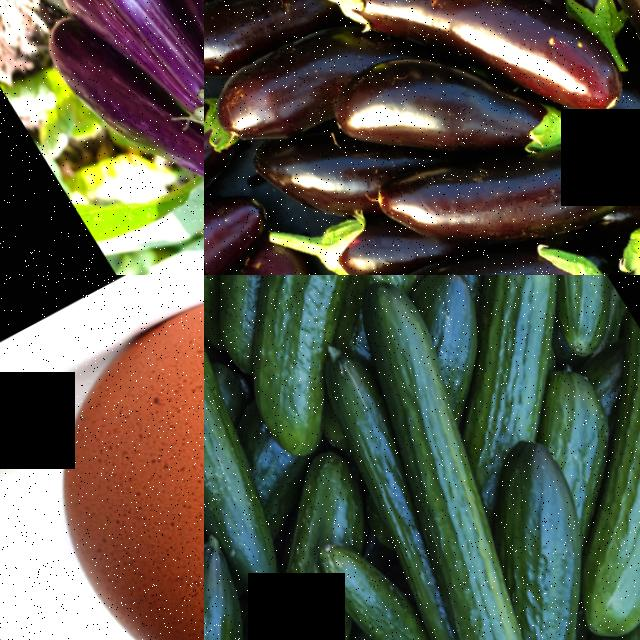cucumber: (313, 275, 527, 531), (204, 275, 409, 471), (449, 438, 623, 630), (404, 275, 632, 419), (367, 514, 594, 640), (513, 458, 640, 640), (292, 521, 445, 640), (204, 275, 270, 475), (204, 545, 294, 640)
egg_: (0, 275, 204, 640)
eggplant: (22, 0, 199, 204), (308, 24, 511, 195), (415, 0, 636, 155), (443, 102, 640, 273), (0, 0, 204, 146), (280, 202, 614, 275), (204, 25, 361, 168), (517, 0, 640, 174), (284, 187, 429, 275), (98, 0, 204, 108)
